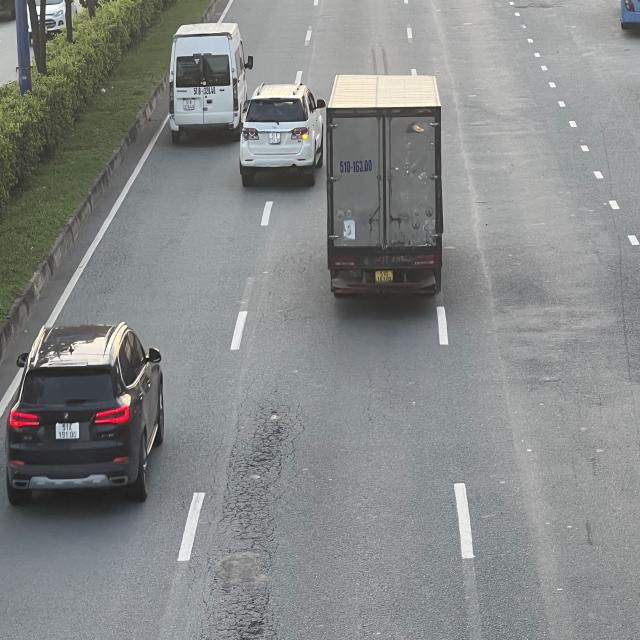car: (9, 326, 168, 507), (237, 85, 323, 187)
truck: (329, 74, 448, 303)
van: (169, 21, 255, 139)
